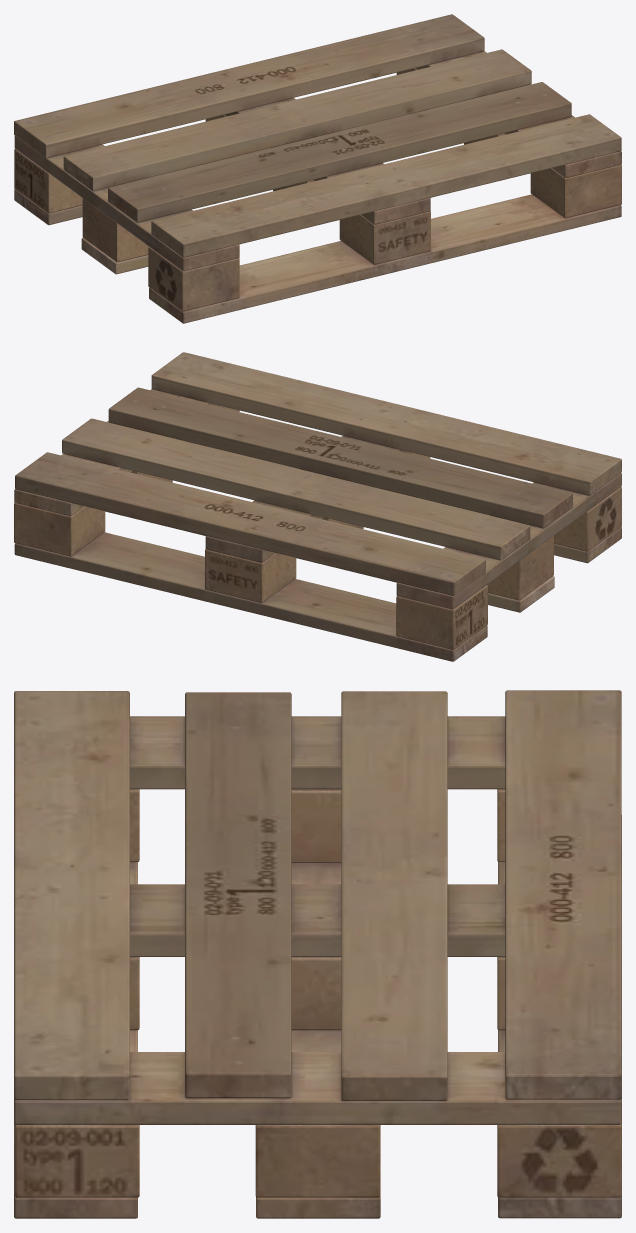
File: pallet.glb
The picture shows the model from 3 angles, top to bottom: view 1: azimuth 30°, elevation 25°; view 2: azimuth 150°, elevation 25°; view 3: azimuth 270°, elevation 25°; orthographic projection. The views are drawn at different scales.
Parts seen in each view (by area): view 1: m0; view 2: m0; view 3: m0.
Part boxes in pixels (x1=…): m0: x1=14, y1=14, x2=621, y2=323; m0: x1=14, y1=352, x2=621, y2=661; m0: x1=14, y1=690, x2=621, y2=1218.
Size of the model in its own units: 1.2 by 0.2086 by 0.8004.
Materials: 1 (1 with a texture image).
